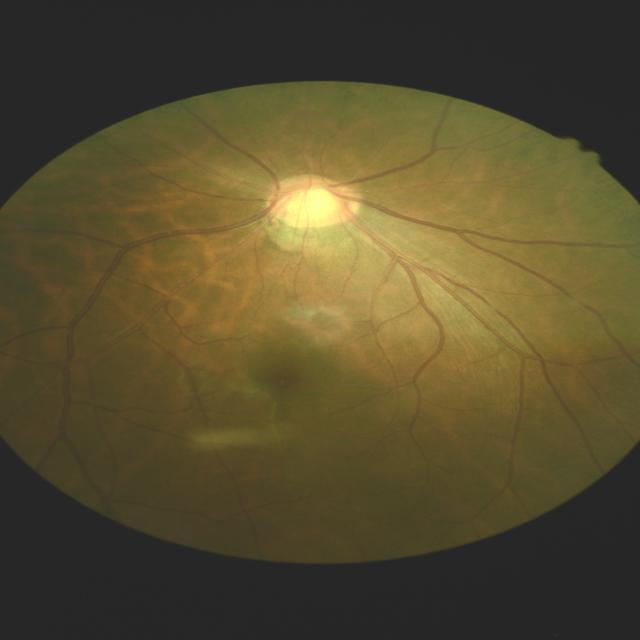cup: (276, 186, 344, 216)
disk: (267, 174, 361, 226)
